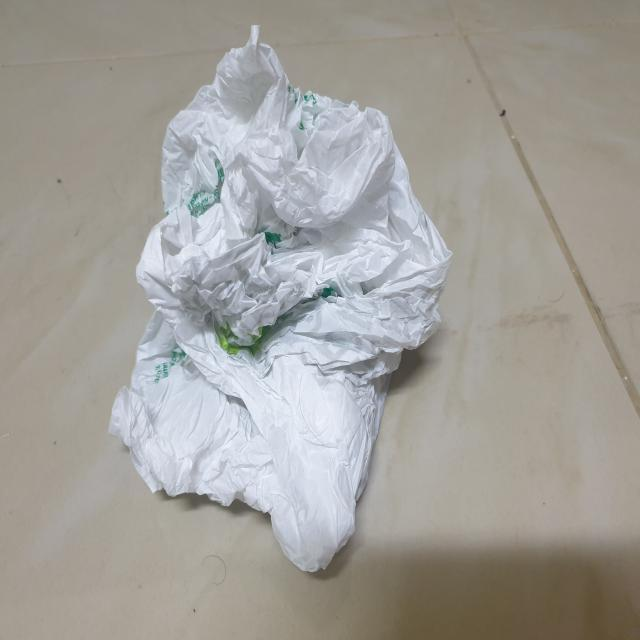Plastic_Bag: (106, 14, 457, 582)
